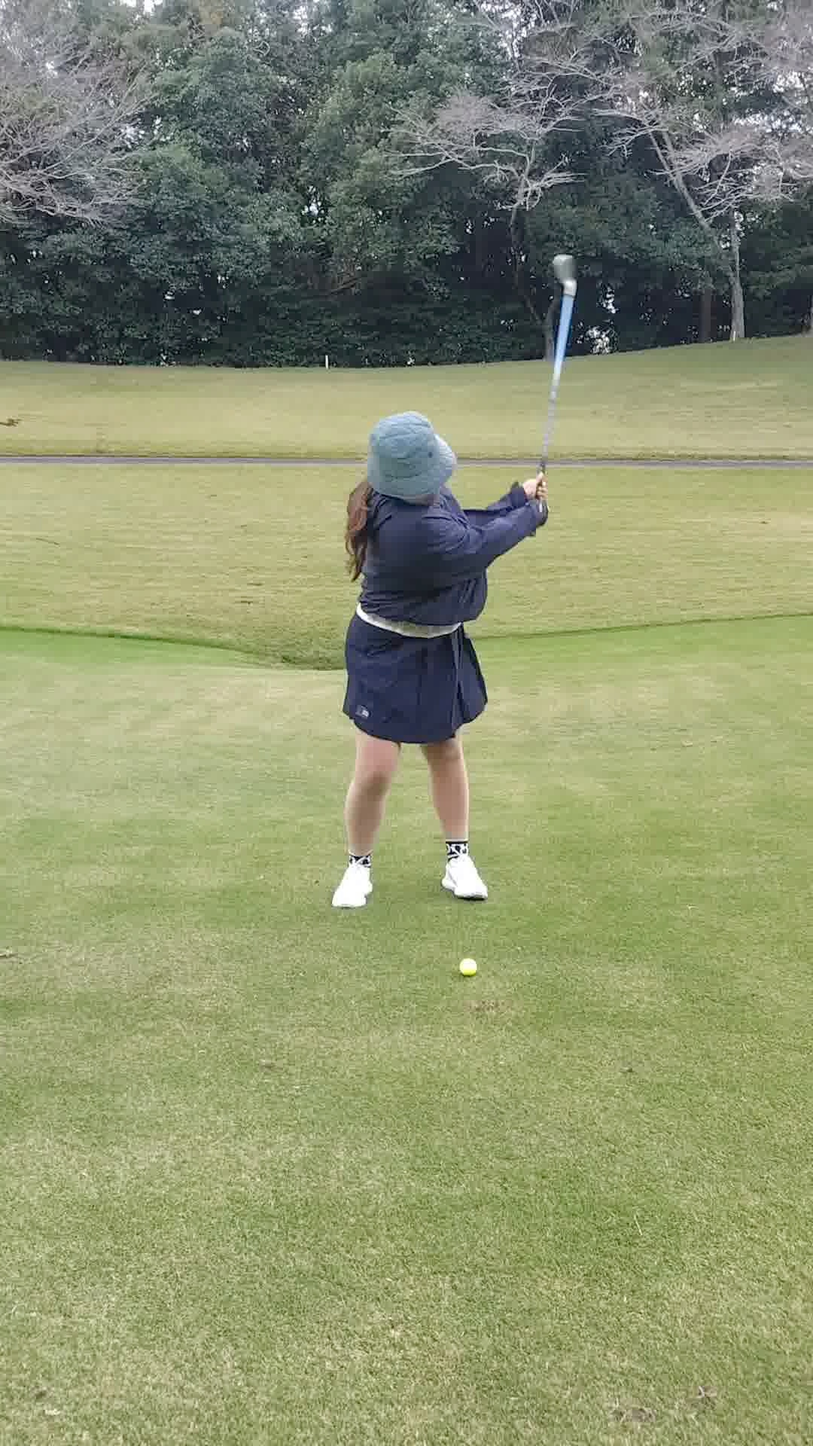clubhead: (459, 224, 652, 361)
